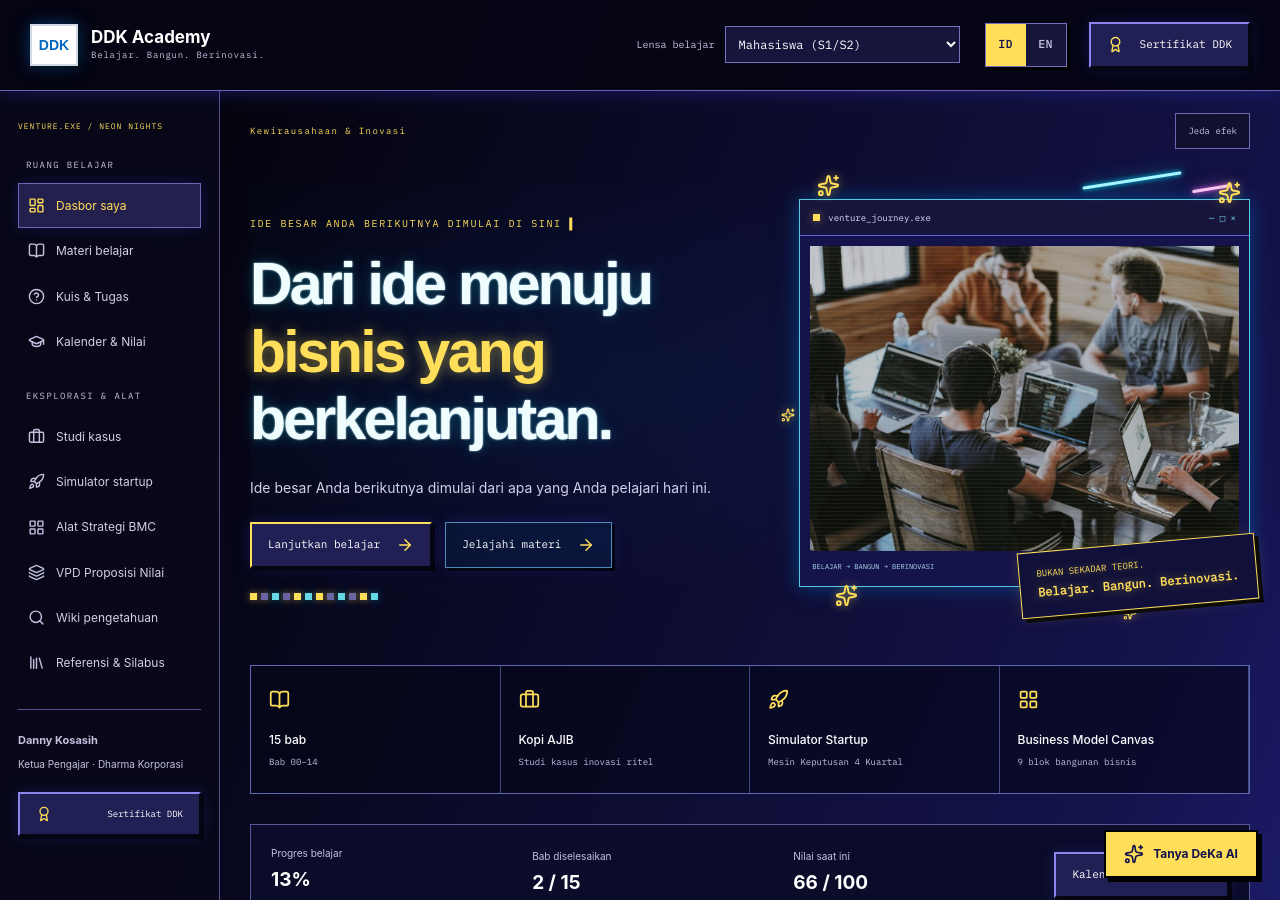
Test: AI assistant popup › opens, sends a message with context, shows the reply, and is bilingual
Click the button with aria-label "Buka asisten AI": (1181, 854) [1104, 830, 1258, 878]
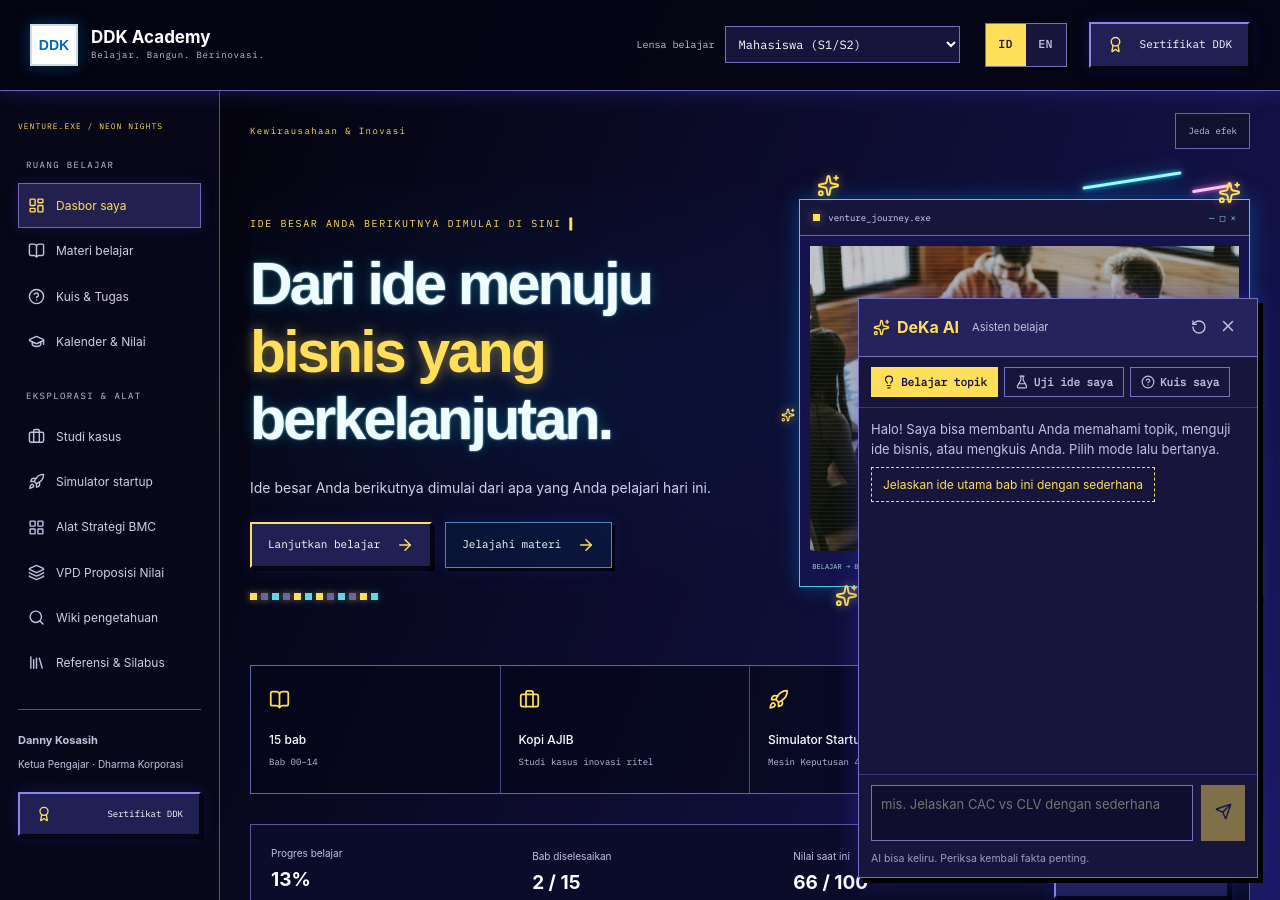
Result: the dialog named "Asisten belajar AI" is shown at [858, 298, 1258, 878]
Click the button "Uji ide saya": (1064, 382) [1004, 367, 1124, 397]
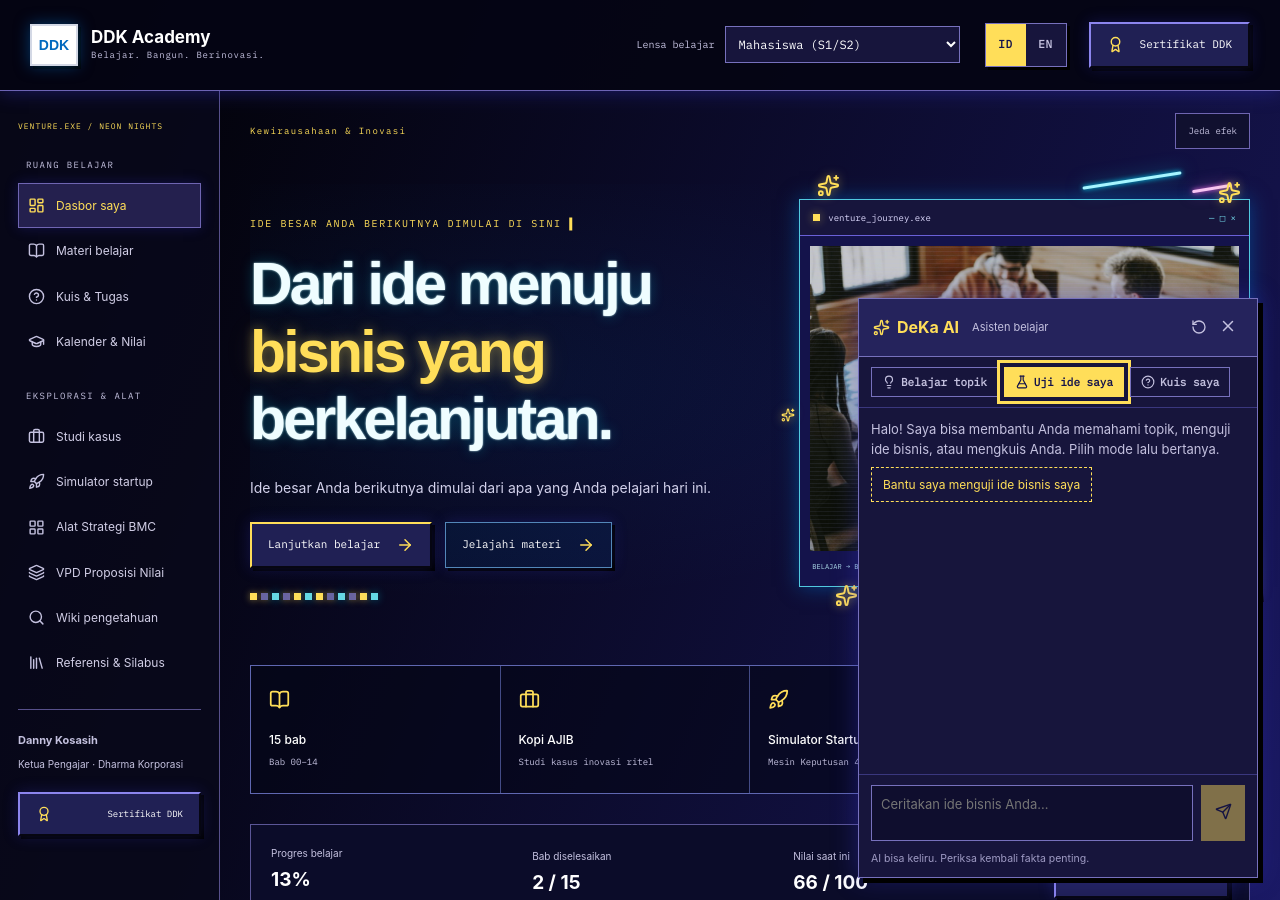
In the text box named "Pesan Anda": (1032, 813) [871, 785, 1193, 841], type "Ide kopi keliling"
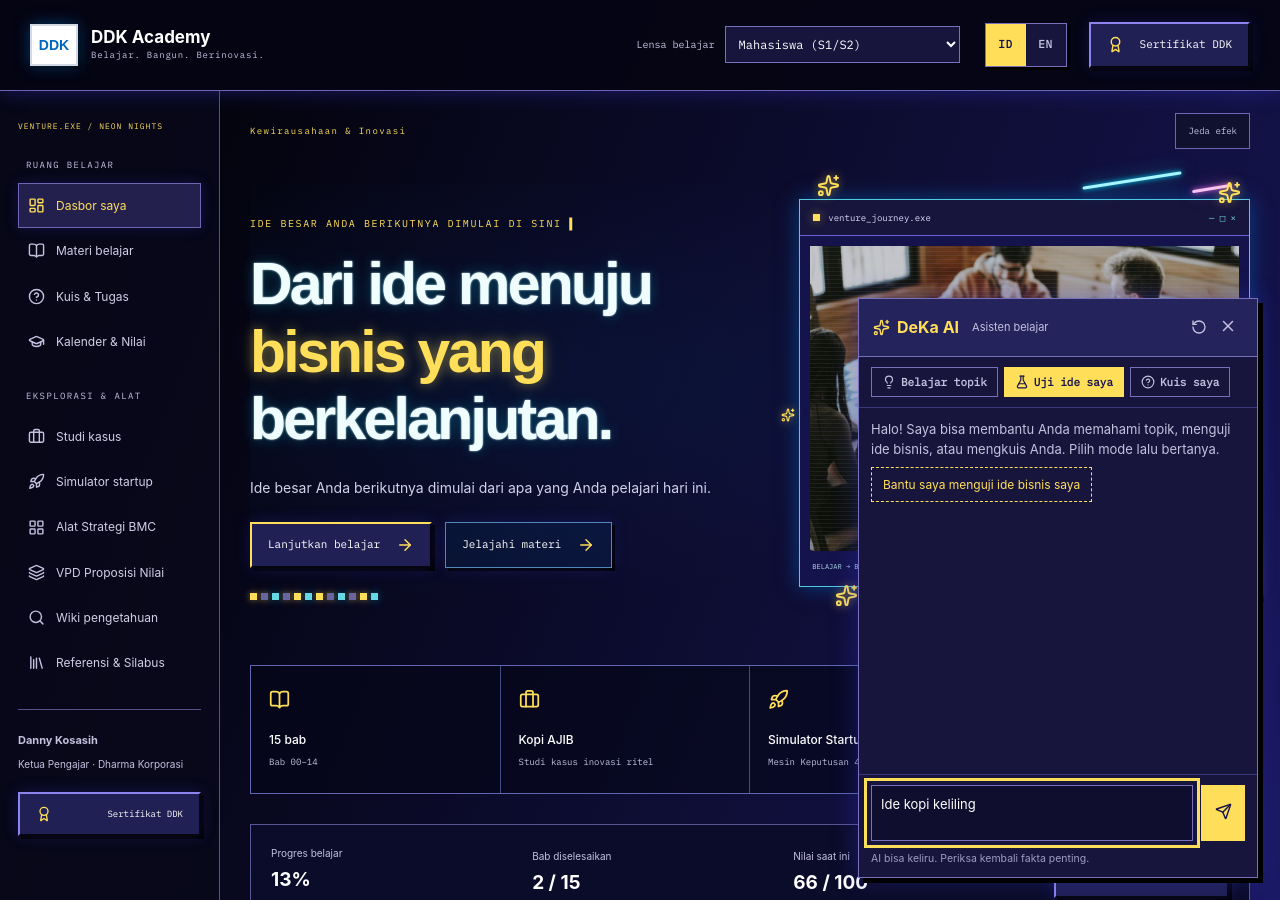
Click the button named "Kirim pesan": (1223, 813) [1201, 785, 1245, 841]
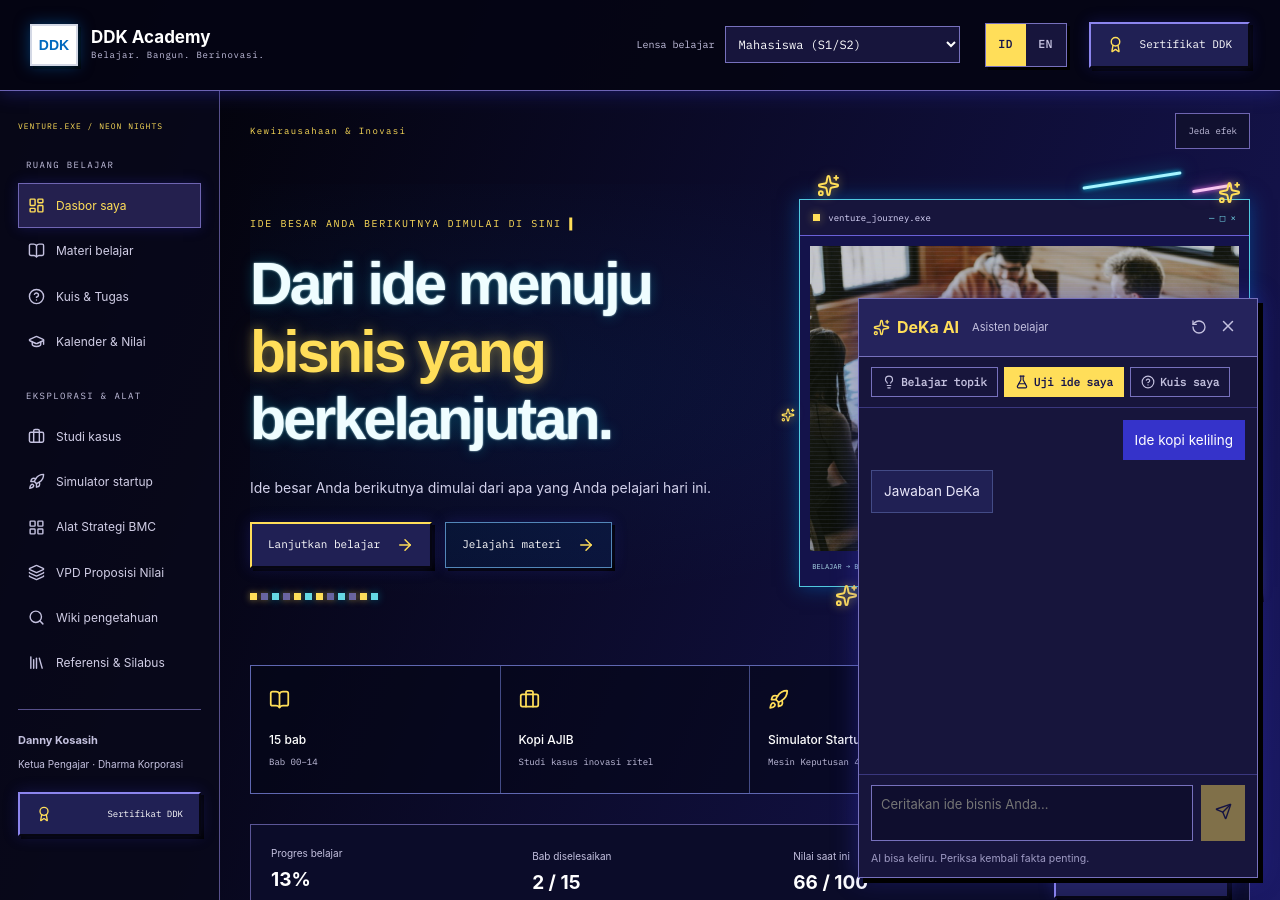
Result: the text "Jawaban DeKa" is shown at [871, 470, 993, 513]
Click the button named "Tutup asisten AI": (1228, 328) [1213, 311, 1243, 344]
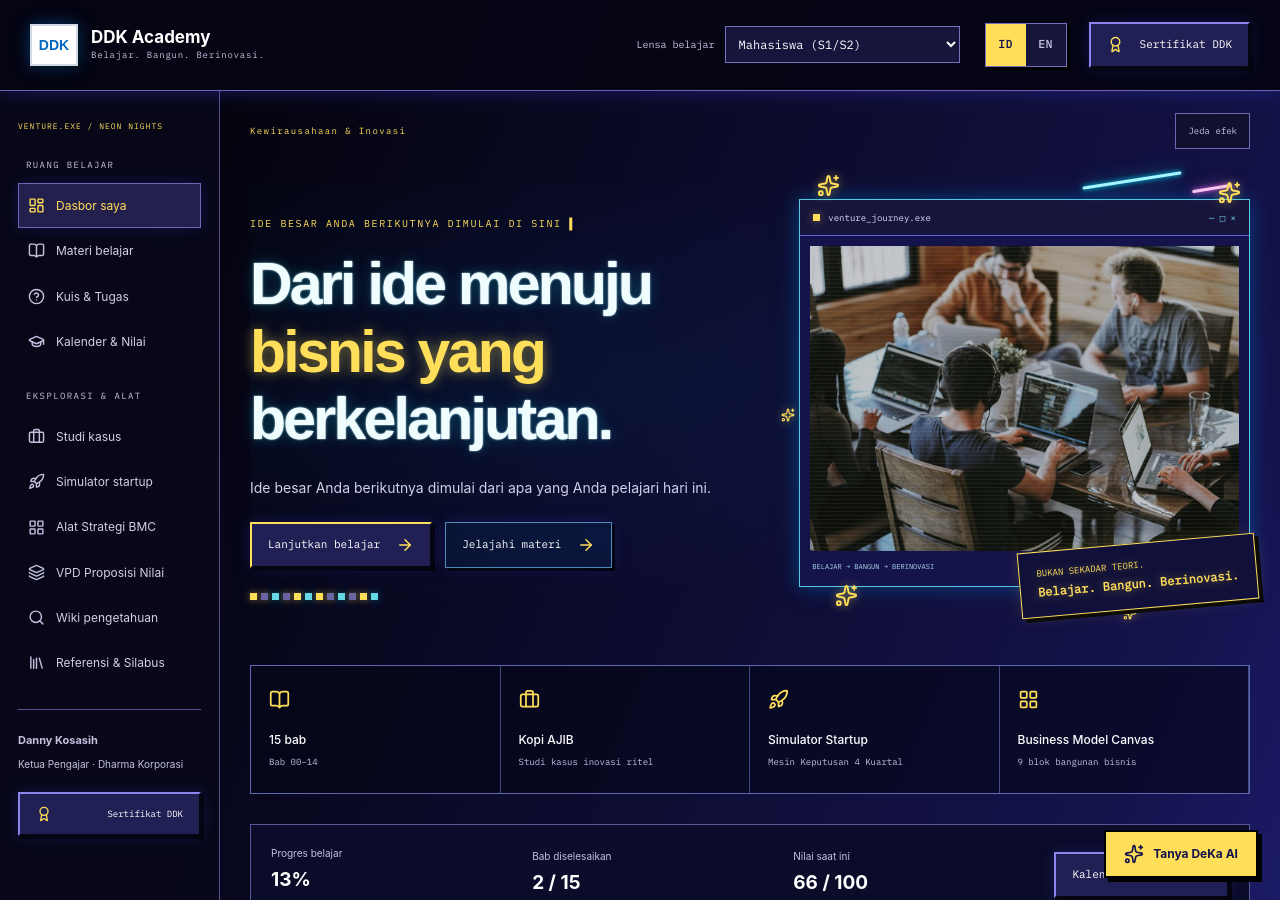
Click the button "EN": (1046, 45) [1026, 24, 1066, 66]
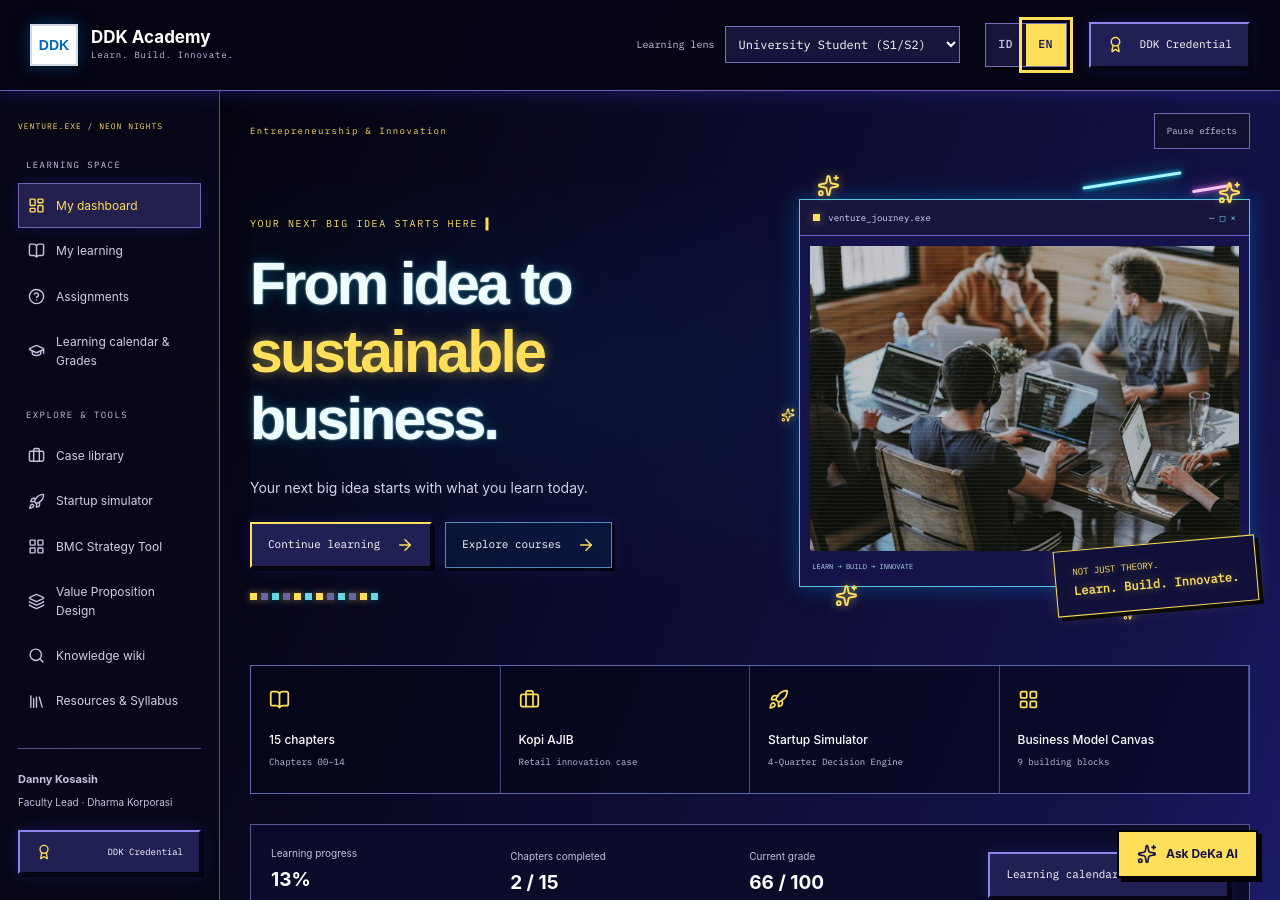
Result: the button with aria-label "Open AI assistant" is shown at [1117, 830, 1258, 878]
